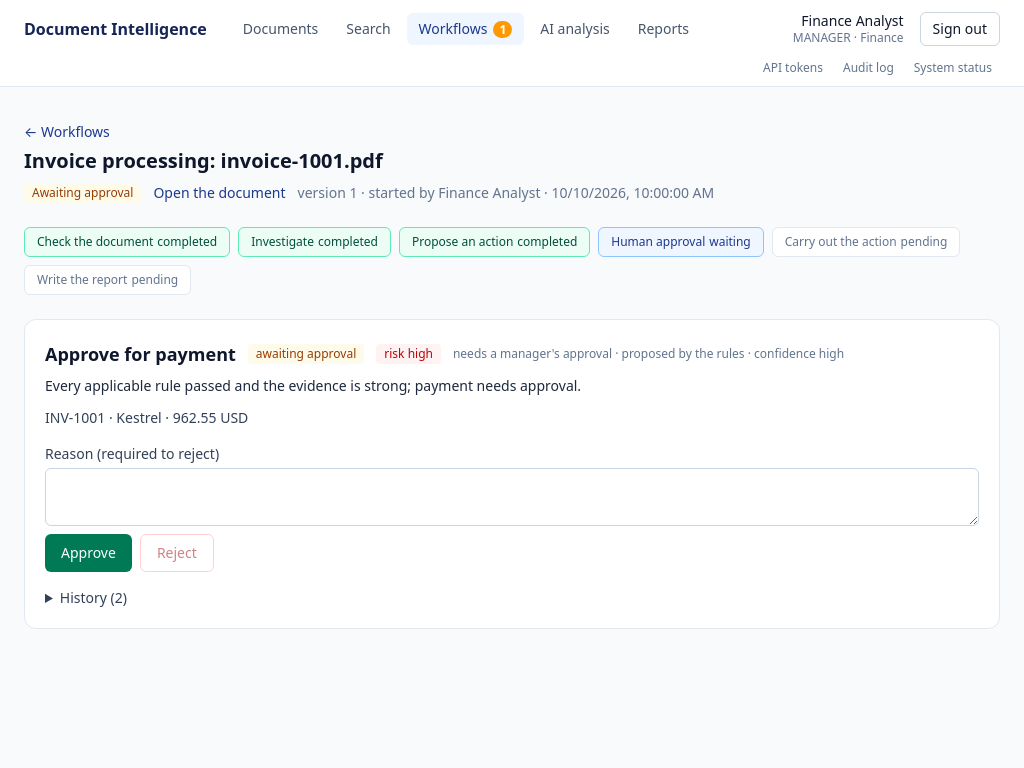
Test case: Workflows › approves a proposed payment and shows the result and its history
This screenshot has width=1024, height=768.
Expected: the text "INV-1001 · Kestrel · 962.55 USD" is shown, [45,408,248,427]
Expected: the button "Reject" is disabled, [140,534,214,572]
Type "Checked against the PO." into the text box labelled "Reason (required to reject)" at (512, 497), box [45,468,979,526]
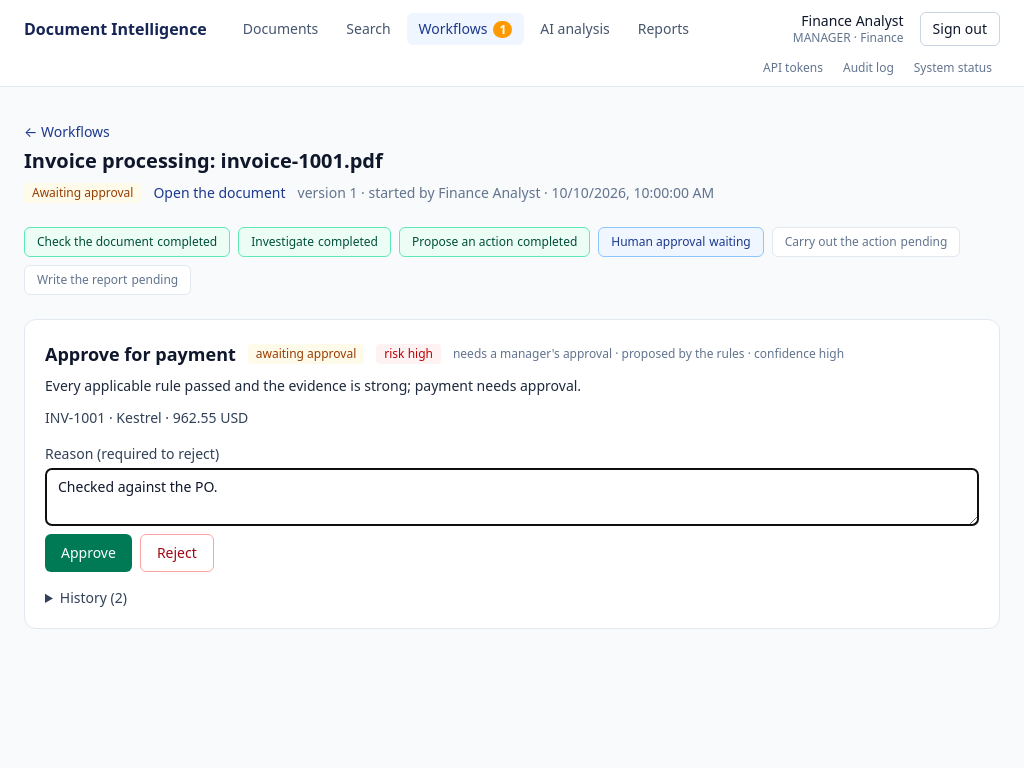
Click the button "Approve" at (88, 553), box [45,534,132,572]
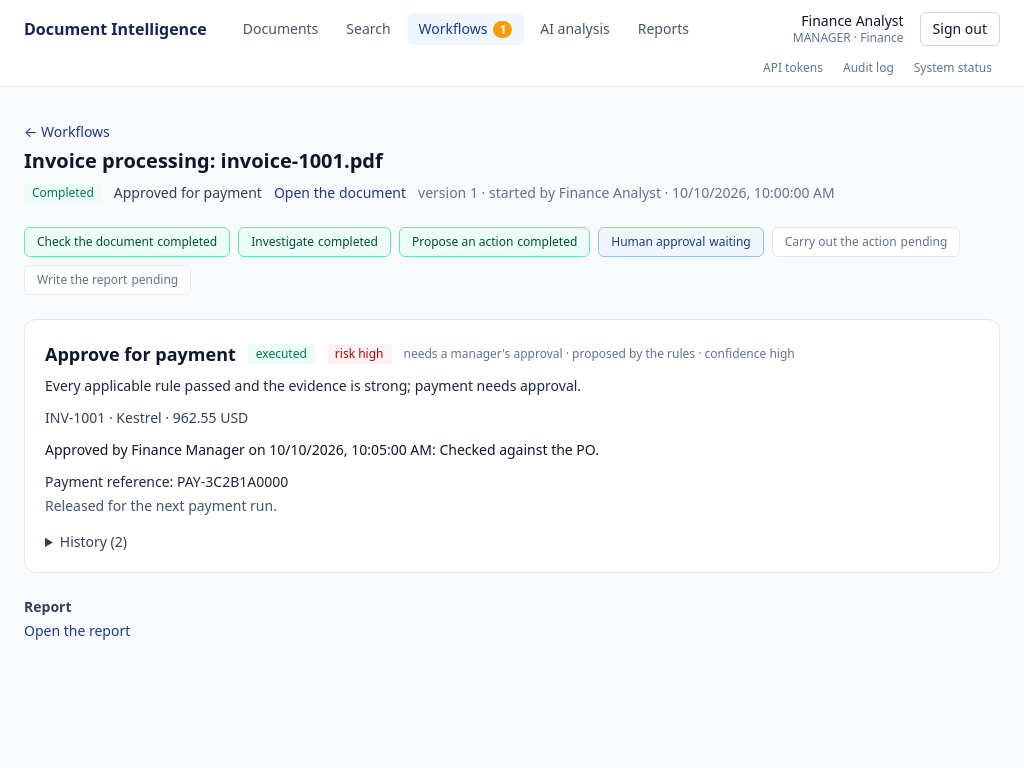
Now the text "Payment reference: PAY-3C2B1A0000" is shown, box [45,472,288,491]
Now the text "Approved" shows "Finance Manager", box [131,440,245,459]
Now the form "Decision" is gone
